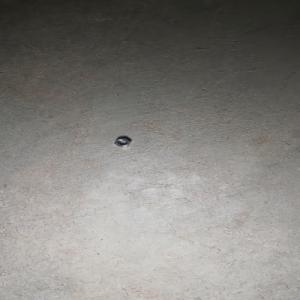Nut: (114, 137, 132, 147)
